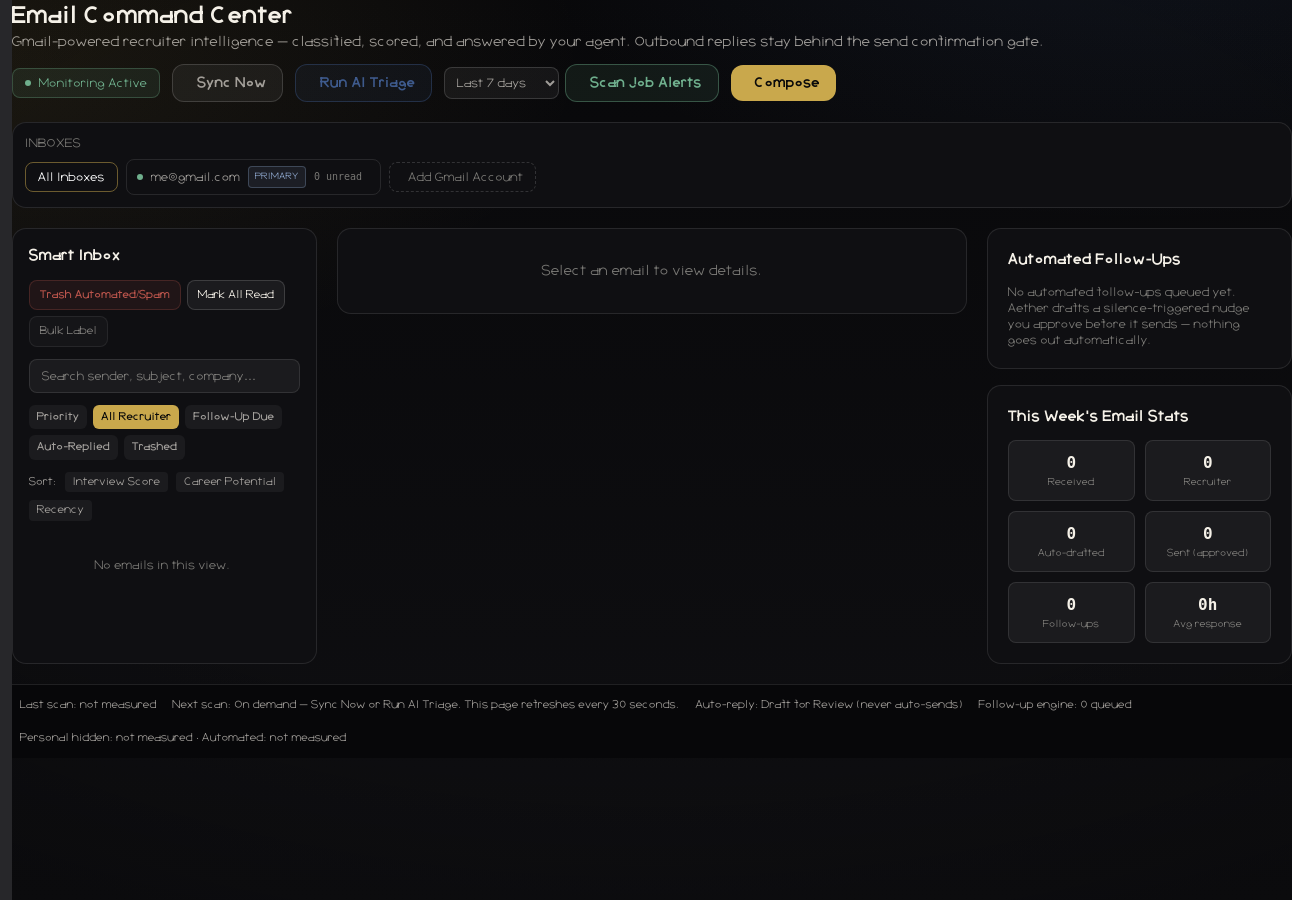
Test: honest states › a failed request shows the real server error
The image size is (1292, 900).
Click the button with test id "run-job-alerts-btn".
click(642, 83)  # box [565,64,719,102]
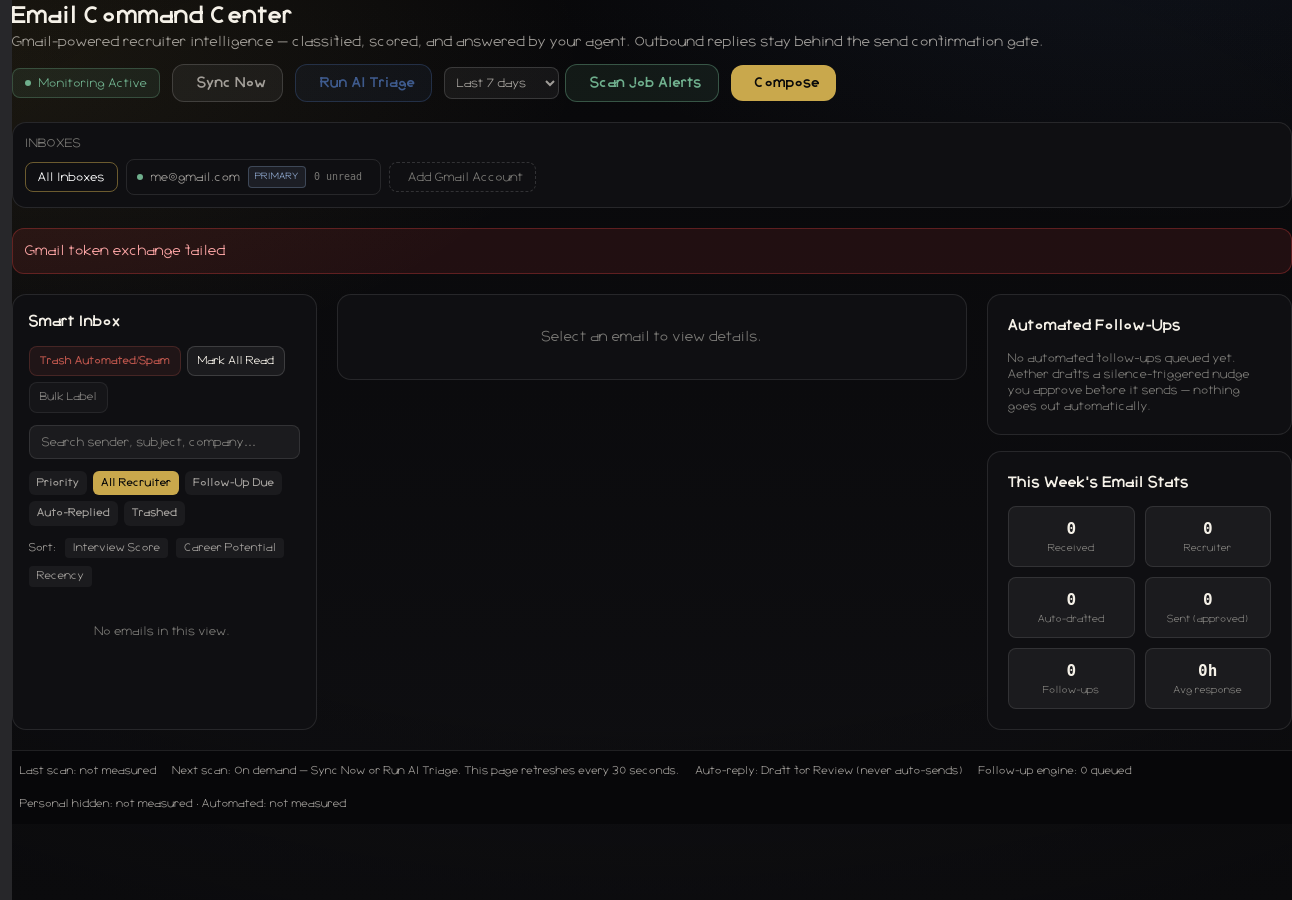
expect the message with test id "job-alerts-error" reads "Gmail token exchange failed": met, box [25,244,225,258]
